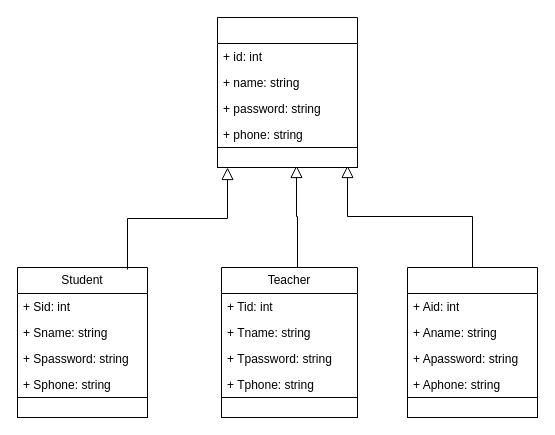
This 555x435 diagram has some shape labels left out. Each missing label, with the box of its shape:
Administrator: (406, 266, 538, 398)
User: (216, 16, 358, 148)
